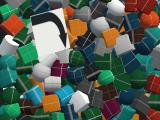Right: (30, 7, 70, 57)
